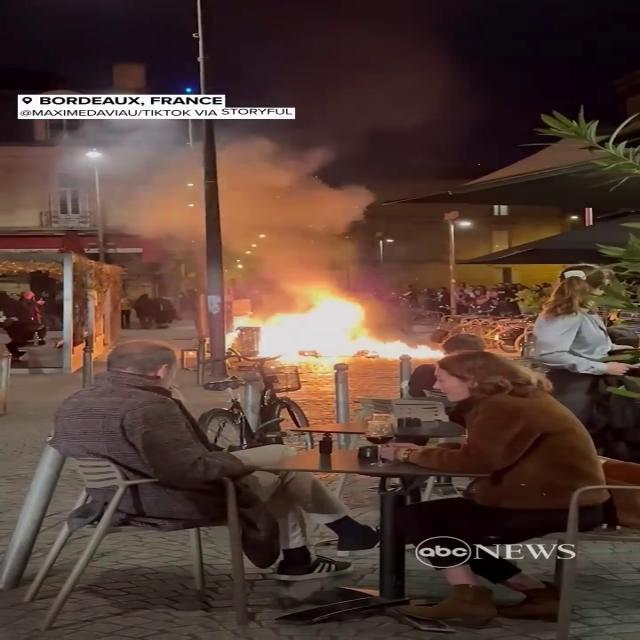Fire: (232, 284, 433, 368)
Smoke: (106, 123, 391, 292)
